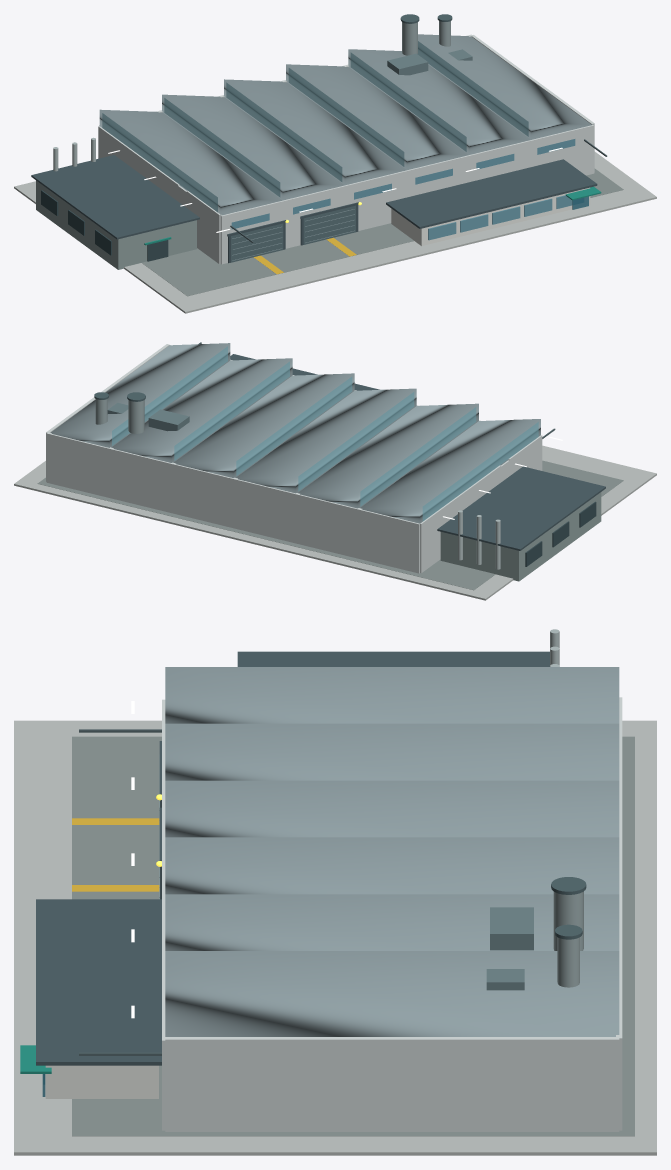
Rendered from factory-a.glb.
3 views of the same model, one above another, from view 1: azimuth 30°, elevation 25°; view 2: azimuth 150°, elevation 25°; view 3: azimuth 270°, elevation 25° (orthographic). The views are drawn at different scales.
Visible parts, largest first — view 1: factory-a-foundation, factory-a-front-upper-wall, factory-a-sawtooth-roof-3, factory-a-sawtooth-roof-2, factory-a-sawtooth-roof-4, factory-a-sawtooth-roof-1, factory-a-sawtooth-roof-6, factory-a-sawtooth-roof-5, factory-a-annex-roof, factory-a-interior-floor, factory-a-office-roof, factory-a-office (+17 smaller); view 2: factory-a-rear-wall, factory-a-sawtooth-roof-4, factory-a-sawtooth-roof-3, factory-a-sawtooth-roof-2, factory-a-sawtooth-roof-1, factory-a-sawtooth-roof-5, factory-a-annex-roof, factory-a-foundation, factory-a-sawtooth-roof-6, factory-a-interior-floor, factory-a-left-wall-rear, factory-a-utility-annex-rear-wall (+11 smaller); view 3: factory-a-right-wall, factory-a-foundation, factory-a-sawtooth-roof-6, factory-a-sawtooth-roof-2, factory-a-sawtooth-roof-3, factory-a-sawtooth-roof-1, factory-a-sawtooth-roof-4, factory-a-interior-floor, factory-a-sawtooth-roof-5, factory-a-office-roof, factory-a-annex-roof, factory-a-office (+6 smaller).
Part boxes in pixels (left/top/right/bottom): factory-a-foundation: left=14, top=151, right=656, bottom=313; factory-a-front-upper-wall: left=220, top=125, right=594, bottom=237; factory-a-sawtooth-roof-3: left=224, top=79, right=406, bottom=185; factory-a-sawtooth-roof-2: left=162, top=94, right=344, bottom=200; factory-a-sawtooth-roof-4: left=286, top=64, right=468, bottom=170; factory-a-sawtooth-roof-1: left=99, top=109, right=282, bottom=215; factory-a-sawtooth-roof-6: left=418, top=34, right=592, bottom=139; factory-a-sawtooth-roof-5: left=348, top=49, right=530, bottom=154; factory-a-annex-roof: left=31, top=155, right=199, bottom=239; factory-a-interior-floor: left=142, top=168, right=623, bottom=296; factory-a-office-roof: left=386, top=159, right=597, bottom=228; factory-a-office: left=391, top=187, right=590, bottom=246; factory-a-rear-wall: left=46, top=432, right=419, bottom=573; factory-a-sawtooth-roof-4: left=174, top=373, right=354, bottom=477; factory-a-sawtooth-roof-3: left=236, top=388, right=416, bottom=493; factory-a-sawtooth-roof-2: left=298, top=403, right=478, bottom=508; factory-a-sawtooth-roof-1: left=360, top=419, right=540, bottom=523; factory-a-sawtooth-roof-5: left=112, top=358, right=292, bottom=462; factory-a-annex-roof: left=437, top=466, right=605, bottom=550; factory-a-foundation: left=14, top=445, right=656, bottom=600; factory-a-sawtooth-roof-6: left=50, top=343, right=230, bottom=447; factory-a-interior-floor: left=37, top=460, right=623, bottom=590; factory-a-left-wall-rear: left=420, top=465, right=501, bottom=573; factory-a-utility-annex-rear-wall: left=440, top=532, right=520, bottom=581; factory-a-right-wall: left=165, top=1037, right=619, bottom=1131; factory-a-foundation: left=14, top=720, right=656, bottom=1155; factory-a-sawtooth-roof-6: left=165, top=951, right=619, bottom=1036; factory-a-sawtooth-roof-2: left=165, top=723, right=619, bottom=780; factory-a-sawtooth-roof-3: left=165, top=780, right=619, bottom=837; factory-a-sawtooth-roof-1: left=165, top=667, right=619, bottom=723; factory-a-sawtooth-roof-4: left=165, top=837, right=619, bottom=894; factory-a-interior-floor: left=72, top=736, right=634, bottom=1136; factory-a-sawtooth-roof-5: left=165, top=894, right=619, bottom=950; factory-a-office-roof: left=36, top=899, right=161, bottom=1065; factory-a-annex-roof: left=237, top=651, right=549, bottom=666; factory-a-office: left=45, top=1065, right=158, bottom=1098.
Size of what is drawn, in the model's own units: 462 by 88.8 by 286.
